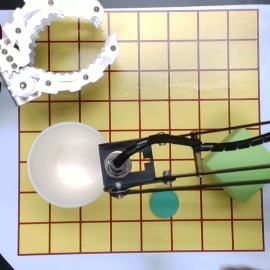cup: (27, 122, 112, 209)
green: (152, 189, 179, 217)
